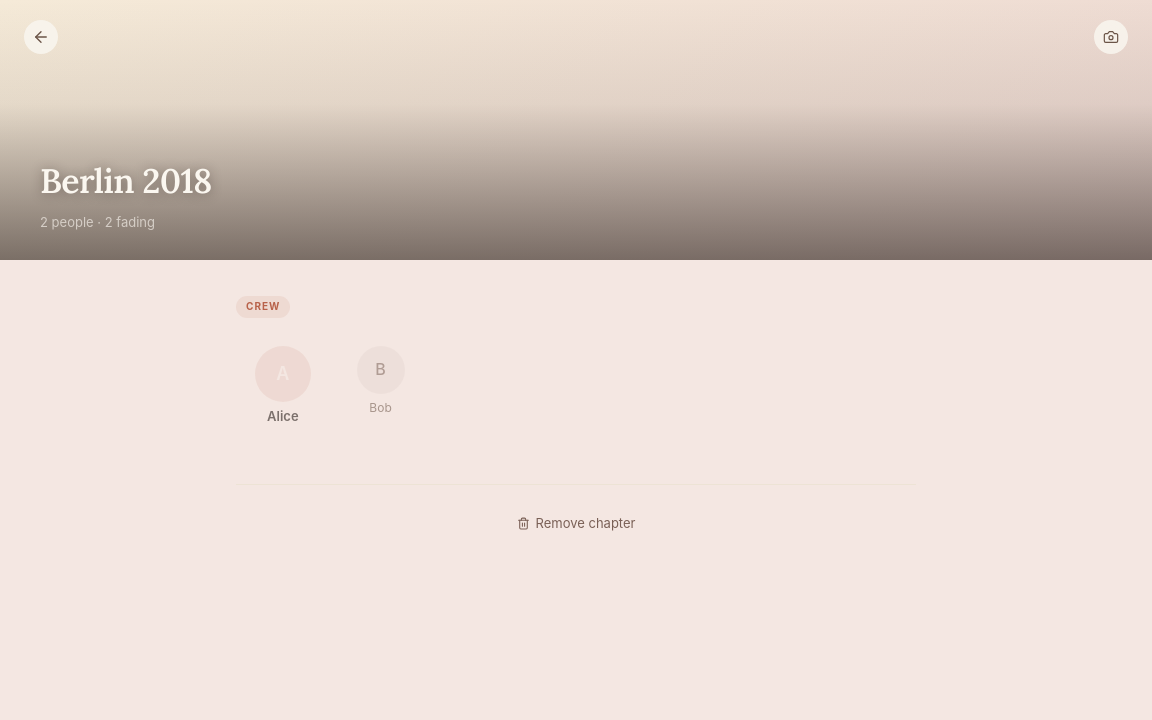
ChapterDetailScreen — chapter removal (MAV-184) › closes the dialog without patching state when "Keep chapter" is clicked
Click the button "Remove chapter".
click(576, 523)  # box [504,509,648,537]
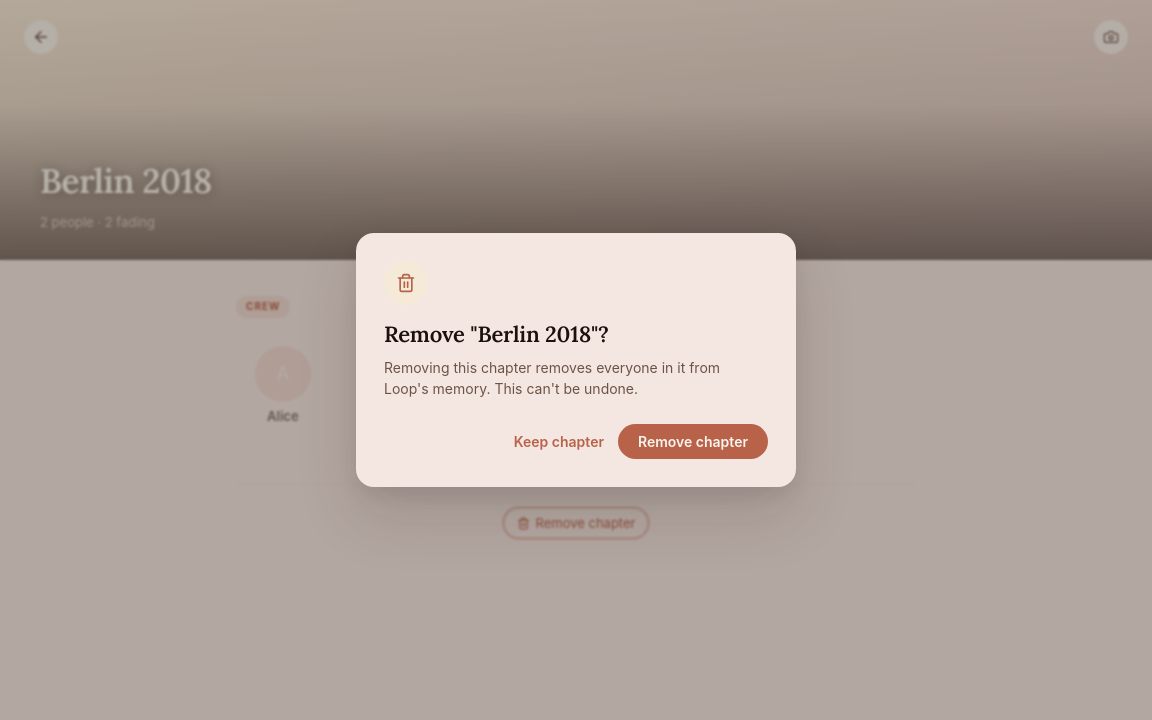
Click the button "Keep chapter".
click(559, 441)  # box [510,424,608,459]
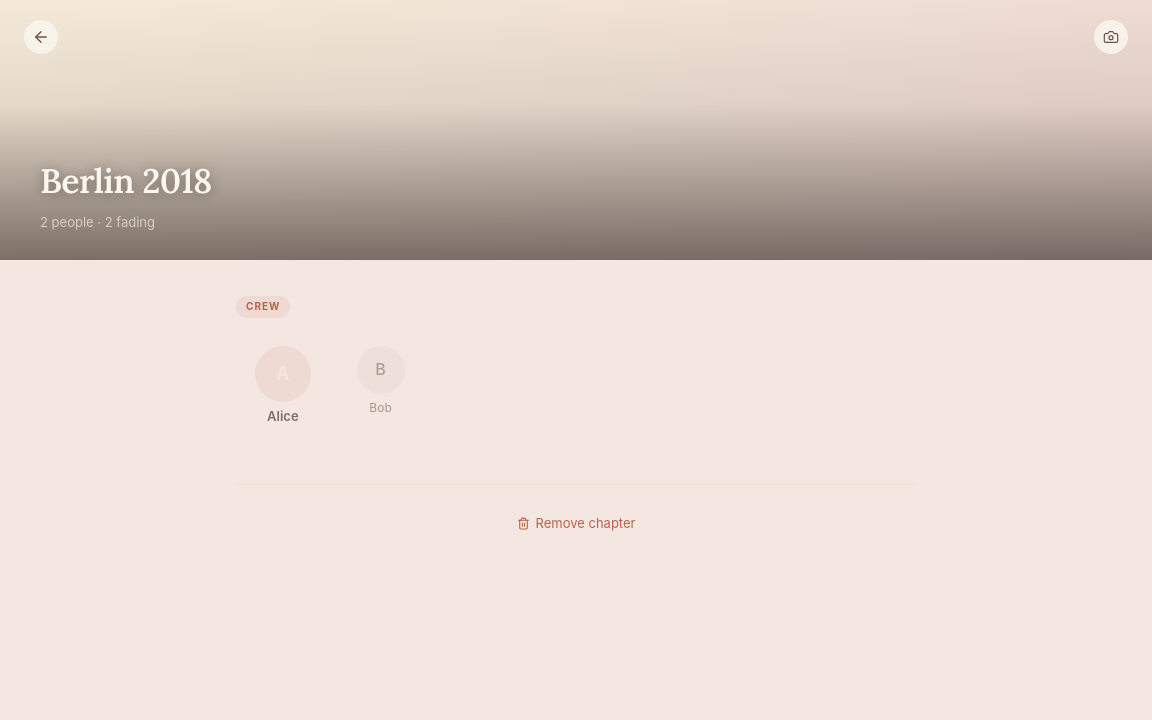
Check: the dialog is gone
